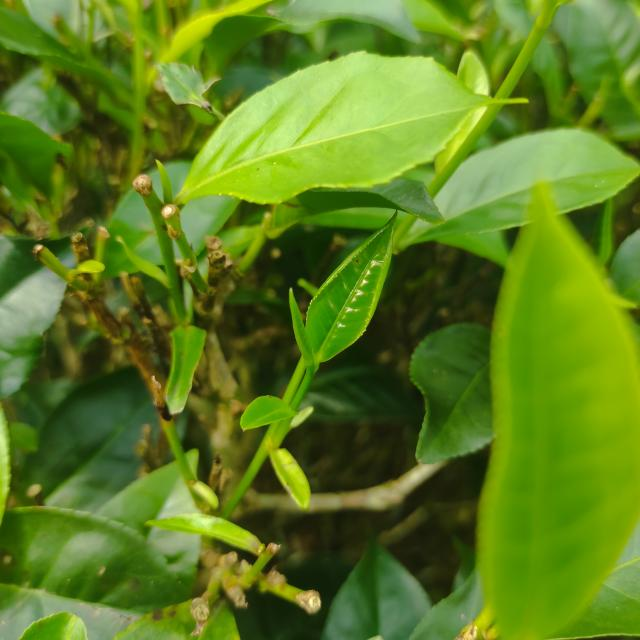unopened_leaf: (282, 283, 318, 372), (150, 154, 183, 207)
